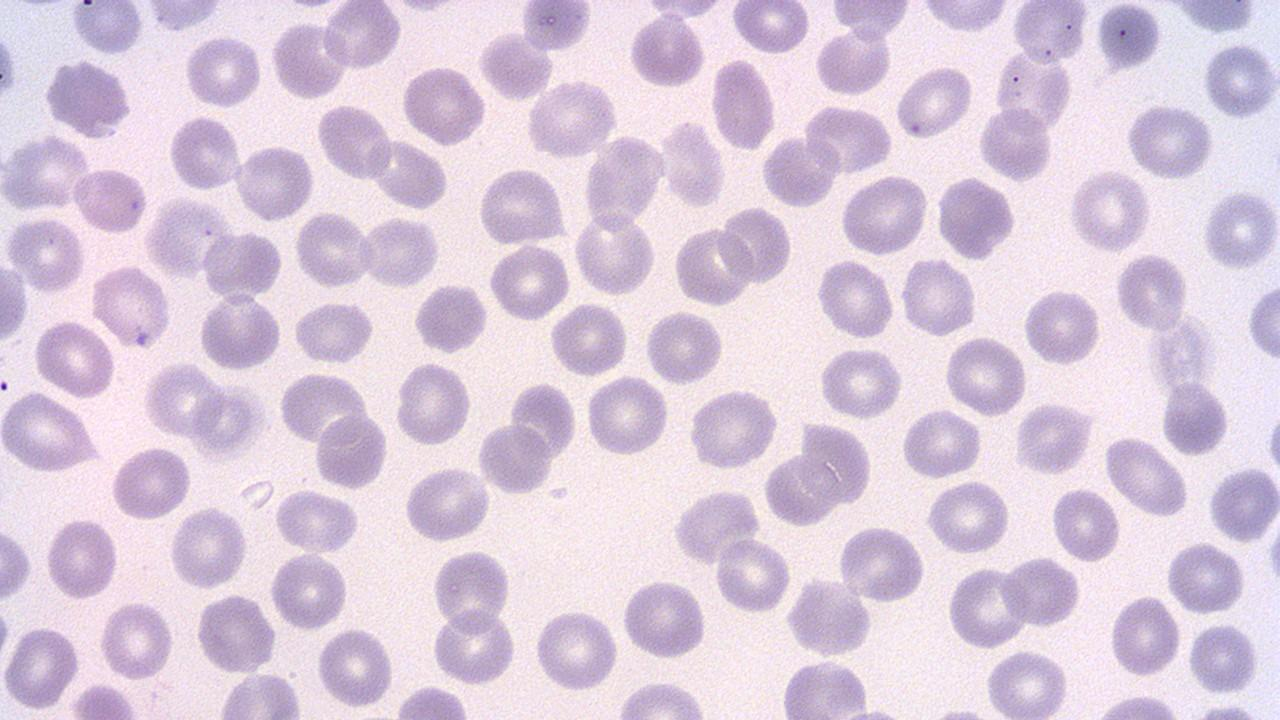RBC: (582, 132, 665, 233), (0, 391, 101, 474), (686, 386, 780, 472), (837, 173, 931, 257), (142, 194, 234, 279), (572, 206, 656, 298), (533, 606, 621, 693), (584, 371, 670, 460), (620, 576, 708, 662), (783, 574, 873, 658), (992, 46, 1074, 138), (524, 79, 618, 159), (934, 174, 1018, 261), (430, 544, 512, 633), (402, 463, 494, 542), (946, 564, 1030, 650), (91, 263, 174, 350), (400, 63, 487, 146), (1, 622, 81, 712), (1123, 103, 1215, 181), (1067, 168, 1151, 253), (475, 165, 564, 245), (279, 368, 370, 446), (1, 134, 92, 212), (316, 622, 396, 710), (394, 359, 473, 448), (1103, 435, 1189, 516), (430, 606, 518, 685), (836, 524, 925, 602), (488, 241, 572, 323), (814, 256, 896, 340), (942, 335, 1028, 415), (1107, 590, 1183, 680), (803, 101, 894, 176), (194, 591, 276, 674), (197, 291, 281, 372), (672, 222, 752, 307), (817, 344, 904, 422), (168, 506, 248, 590), (270, 17, 350, 101), (800, 420, 876, 508), (44, 514, 120, 602), (5, 214, 87, 295), (1022, 285, 1102, 368), (98, 597, 176, 682), (982, 646, 1072, 719), (269, 550, 349, 632), (643, 307, 725, 387), (33, 318, 115, 398), (142, 362, 226, 440), (899, 254, 977, 338), (710, 56, 778, 152), (234, 142, 315, 222), (293, 208, 372, 290), (1200, 188, 1278, 271), (627, 10, 707, 90), (764, 448, 843, 529), (1012, 400, 1094, 478), (316, 99, 393, 182), (925, 478, 1009, 554), (713, 536, 792, 616), (361, 212, 442, 290), (182, 32, 263, 110), (660, 117, 727, 211), (718, 204, 794, 286), (1165, 540, 1247, 616), (900, 406, 983, 481), (167, 110, 242, 193), (1146, 308, 1218, 394), (313, 410, 390, 490), (1001, 553, 1081, 630), (548, 300, 628, 377), (369, 134, 450, 210), (762, 132, 840, 210), (1201, 40, 1277, 120), (272, 486, 360, 555), (202, 227, 284, 301), (975, 106, 1054, 182), (895, 63, 974, 139), (110, 444, 189, 520), (1114, 251, 1188, 332), (813, 24, 893, 98), (476, 28, 555, 102), (1049, 483, 1121, 564), (320, 0, 402, 71), (477, 420, 553, 496), (70, 163, 149, 236), (778, 658, 874, 718), (1187, 619, 1261, 696), (413, 282, 490, 355), (1208, 463, 1278, 543), (1159, 380, 1231, 455), (290, 300, 374, 364), (190, 385, 261, 460), (1010, 1, 1088, 66), (1095, 1, 1163, 71), (730, 1, 812, 55), (68, 0, 145, 57), (215, 670, 308, 716), (518, 0, 593, 54), (914, 1, 1014, 35), (828, 1, 914, 39), (1246, 280, 1280, 363), (0, 522, 34, 604), (0, 256, 30, 348), (638, 0, 728, 22), (0, 23, 19, 107)
WBC: (41, 58, 136, 140), (934, 170, 1016, 263), (312, 409, 391, 490), (68, 2, 147, 56), (914, 0, 1014, 32)
